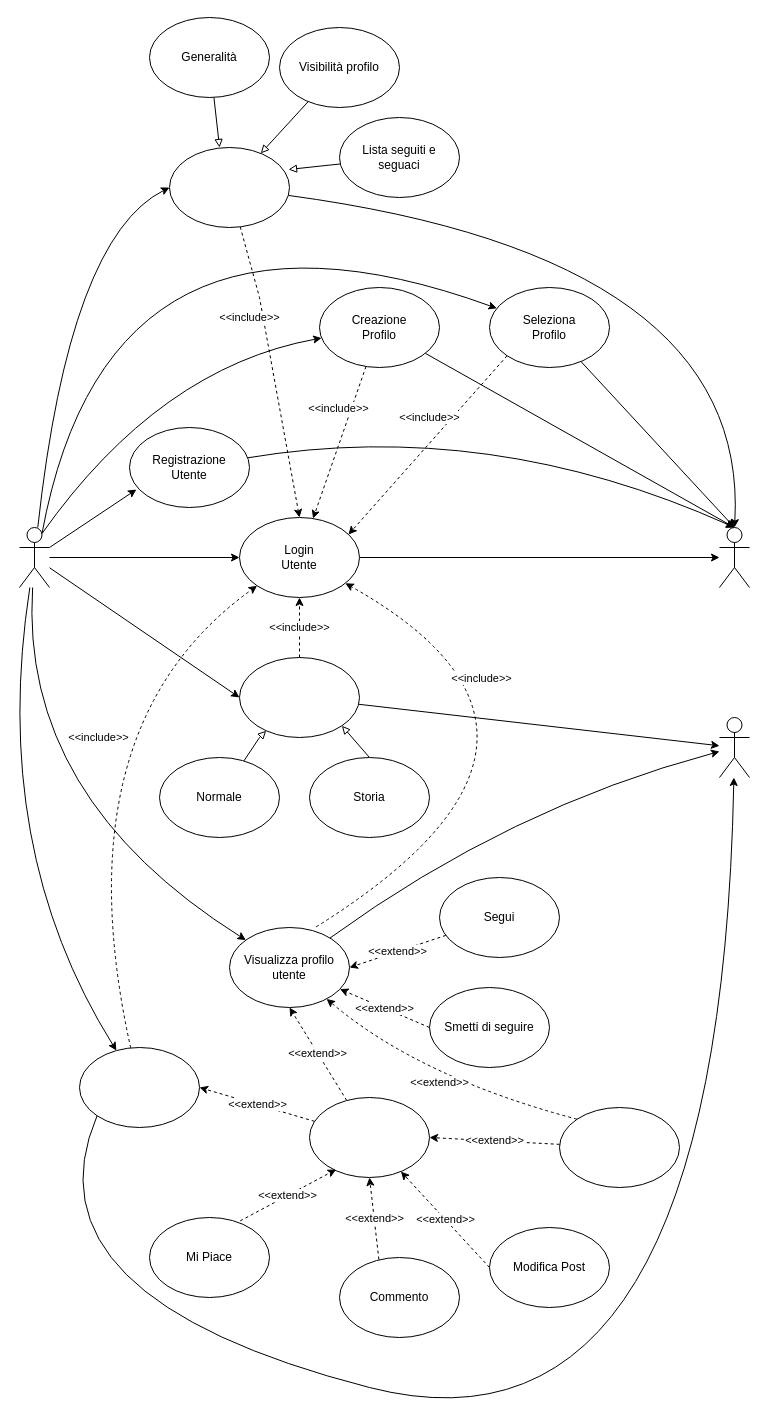
Image size: 784x1416. Some labels were removed from this diagram. Each missing label, with the centre of its shape:
DB Accesso: [734,557]
DB Media: [734,747]
Modifica Profilo: [229,187]
Pubblica post: [299,697]
Segnala: [619,1147]
Utente: [34,557]
Visualizza feed: [139,1087]
Visualizza post: [369,1137]
